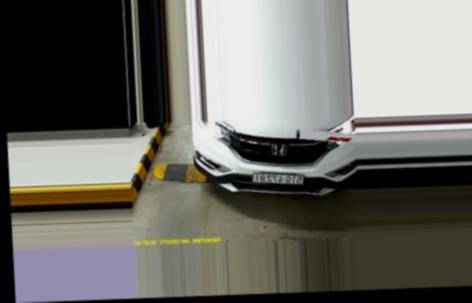License_Plate: (246, 169, 303, 190)
